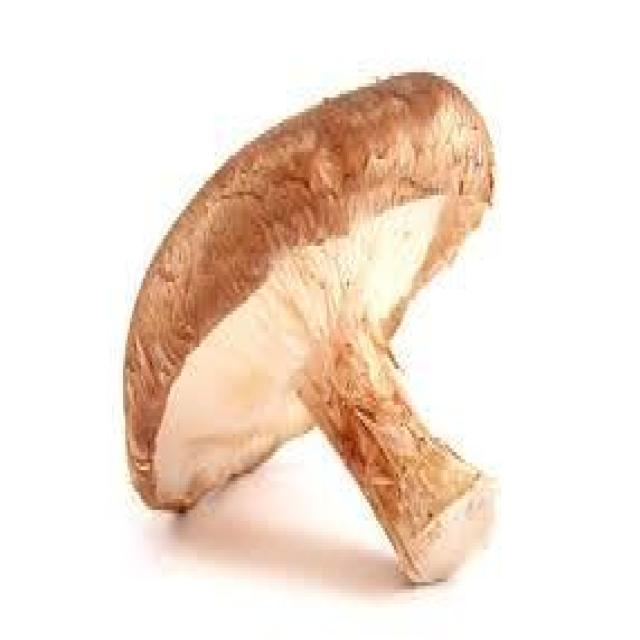organic: (121, 72, 497, 586)
